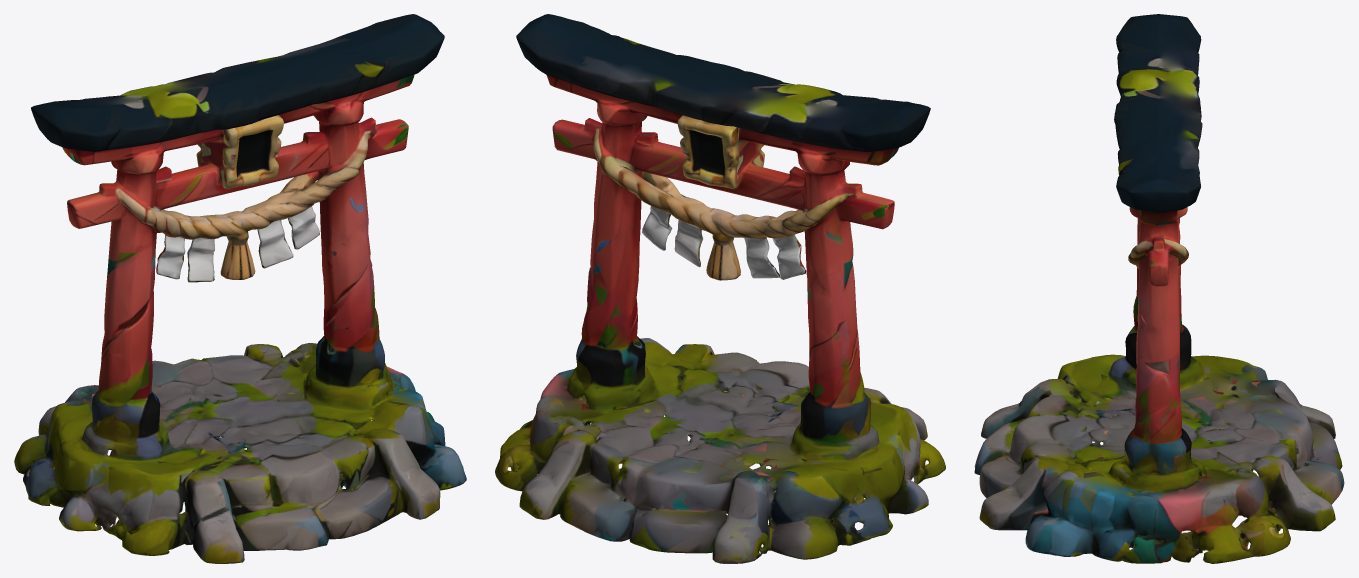
Rendered from torii.glb.
3 views of the same model, side by side, from view 1: azimuth 30°, elevation 25°; view 2: azimuth 150°, elevation 25°; view 3: azimuth 270°, elevation 25° (orthographic). The views are drawn at different scales.
Visible parts, largest first — view 1: texture_pbr_v128; view 2: texture_pbr_v128; view 3: texture_pbr_v128.
Boxes of the visible parts, x1,y1,x2,y2 form: texture_pbr_v128: (14, 14, 466, 563); texture_pbr_v128: (495, 14, 945, 563); texture_pbr_v128: (974, 14, 1344, 563).
Bounding box in the file's own units: 0.8402 × 0.8403 × 0.7407.
1 material, 1 textured.
